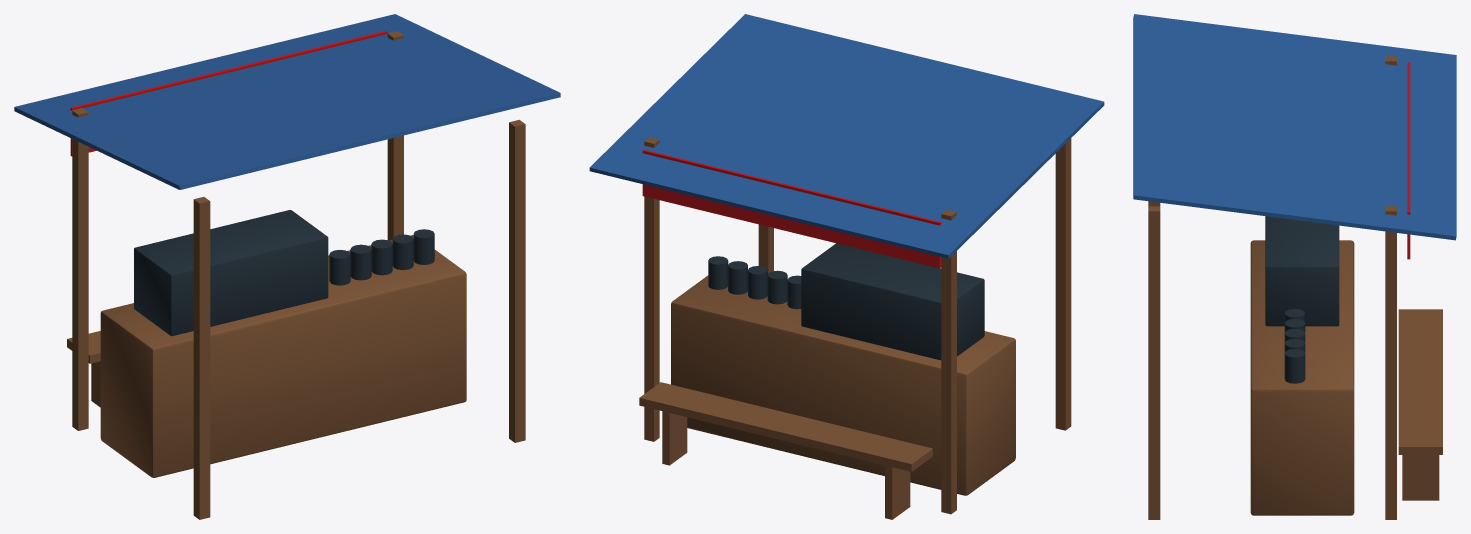
File: Warung.fbx
3 views of the same model, side by side, from view 1: azimuth 30°, elevation 25°; view 2: azimuth 150°, elevation 25°; view 3: azimuth 270°, elevation 25° (orthographic). The views are drawn at different scales.
Visible parts, largest first — view 1: Warung_Mesh; view 2: Warung_Mesh; view 3: Warung_Mesh.
Part boxes in pixels (x1=…): Warung_Mesh: x1=14, y1=14, x2=560, y2=519; Warung_Mesh: x1=589, y1=14, x2=1104, y2=519; Warung_Mesh: x1=1133, y1=14, x2=1456, y2=519.
Bounding box in the file's own units: 2.9 × 2.52 × 2.18.
